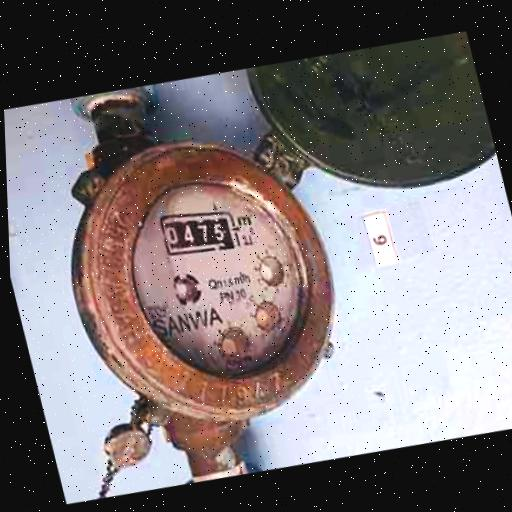0: (162, 220, 184, 251)
4: (177, 218, 198, 249)
5: (207, 216, 232, 249)
7: (191, 218, 213, 248)
border_water_meter_number: (156, 200, 242, 263)
